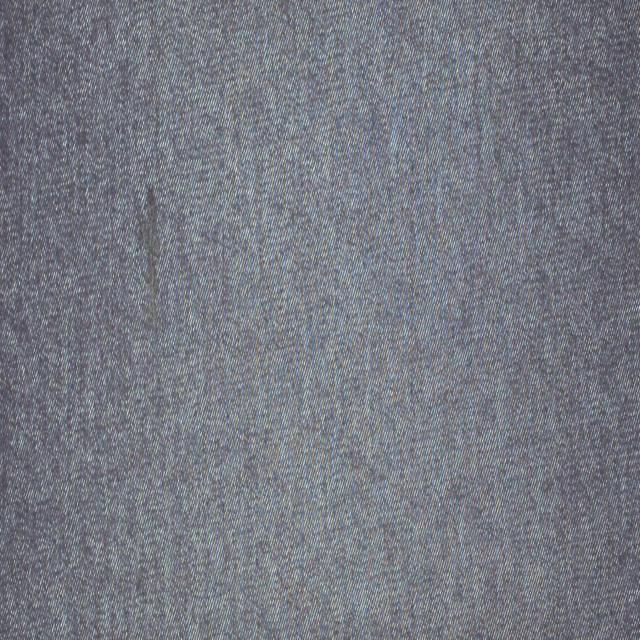Stain: (138, 187, 158, 329)
